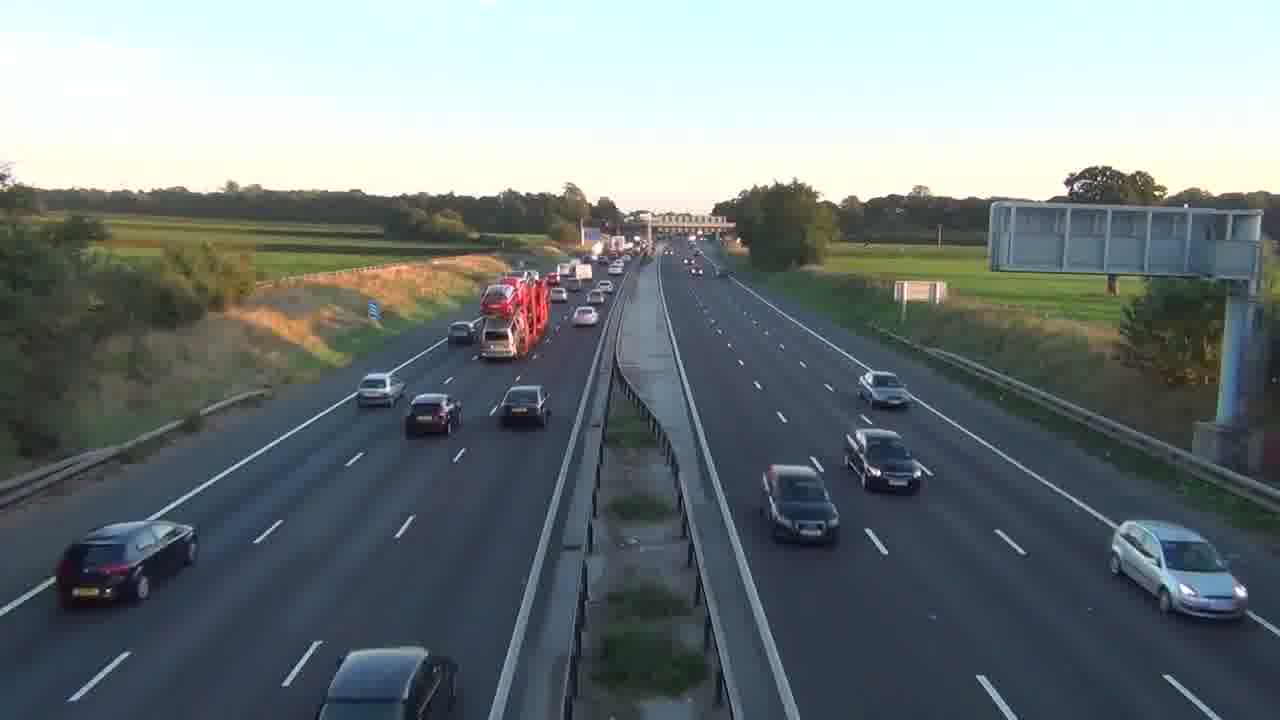car: (1109, 518, 1248, 622), (316, 644, 462, 718), (760, 461, 841, 546), (842, 427, 929, 495), (402, 392, 461, 438), (498, 383, 552, 427), (856, 370, 909, 409), (357, 371, 407, 408), (572, 304, 598, 327)
truck: (54, 518, 199, 610)
